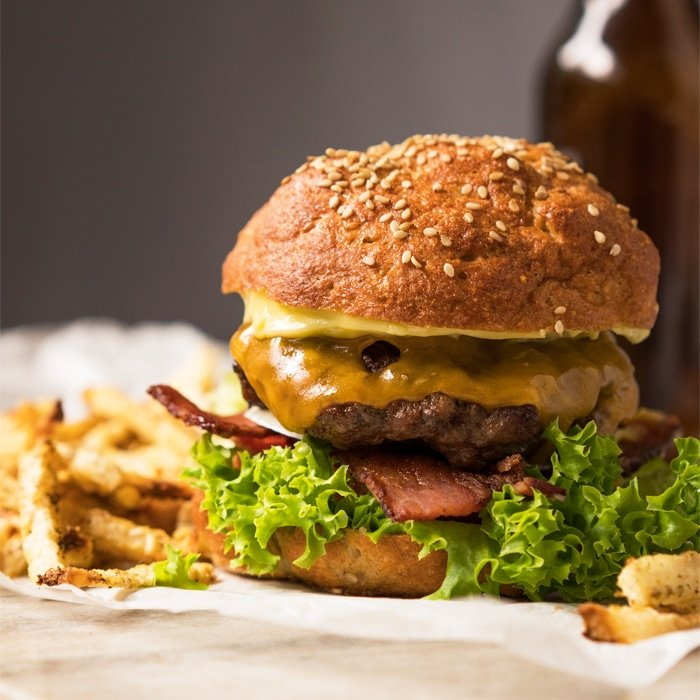hamburger_buns: (176, 143, 666, 648)
